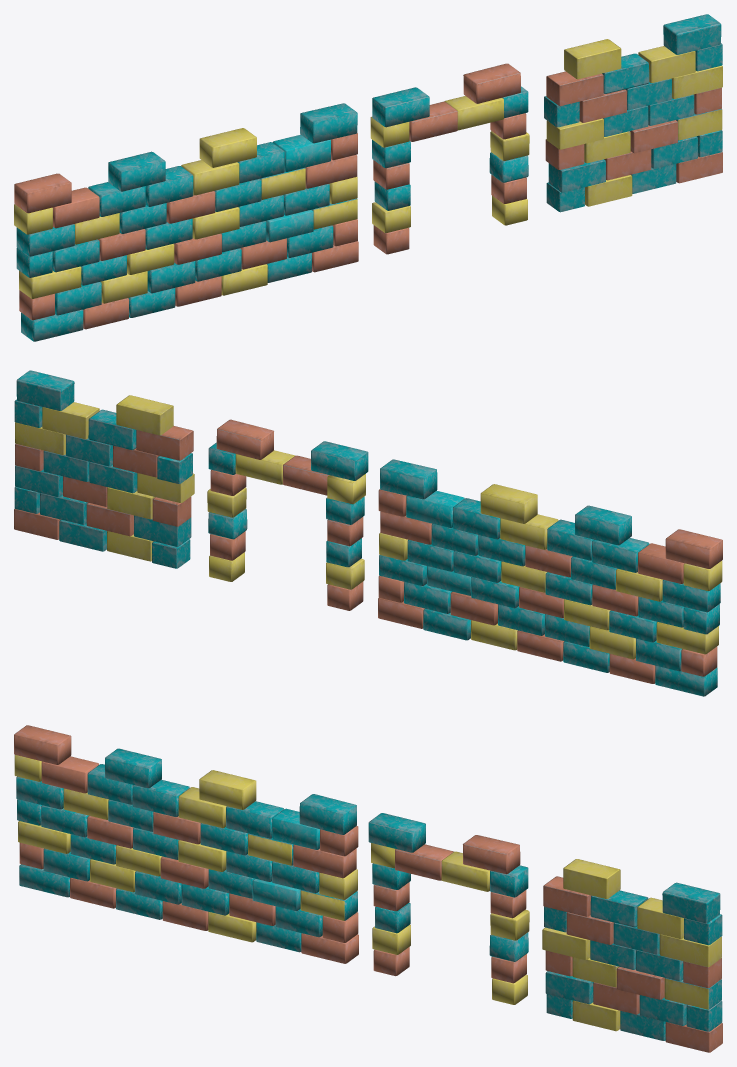
Rendered from Poppy Playtime_ Chapter 3 Playhouse BrickWall.fbx.
3 views of the same model, one above another, from view 1: azimuth 30°, elevation 25°; view 2: azimuth 150°, elevation 25°; view 3: azimuth 330°, elevation 25° (orthographic).
Visible parts, largest first — view 1: SM_Playground_Brickwall.mo, SM_Playground_Brickwall_Half.mo, SM_Playground_Brickwall_Door_Half.mo; view 2: SM_Playground_Brickwall.mo, SM_Playground_Brickwall_Half.mo, SM_Playground_Brickwall_Door_Half.mo; view 3: SM_Playground_Brickwall.mo, SM_Playground_Brickwall_Half.mo, SM_Playground_Brickwall_Door_Half.mo.
Boxes of the visible parts, <box> form: SM_Playground_Brickwall.mo: <box>14,103,358,341</box>; SM_Playground_Brickwall_Half.mo: <box>544,14,722,212</box>; SM_Playground_Brickwall_Door_Half.mo: <box>370,63,529,254</box>; SM_Playground_Brickwall.mo: <box>378,459,722,696</box>; SM_Playground_Brickwall_Half.mo: <box>14,370,194,568</box>; SM_Playground_Brickwall_Door_Half.mo: <box>207,419,368,610</box>; SM_Playground_Brickwall.mo: <box>14,725,358,963</box>; SM_Playground_Brickwall_Half.mo: <box>542,859,722,1052</box>; SM_Playground_Brickwall_Door_Half.mo: <box>368,813,529,1004</box>.
Bounding box in the file's own units: 876 × 182 × 35.66.
